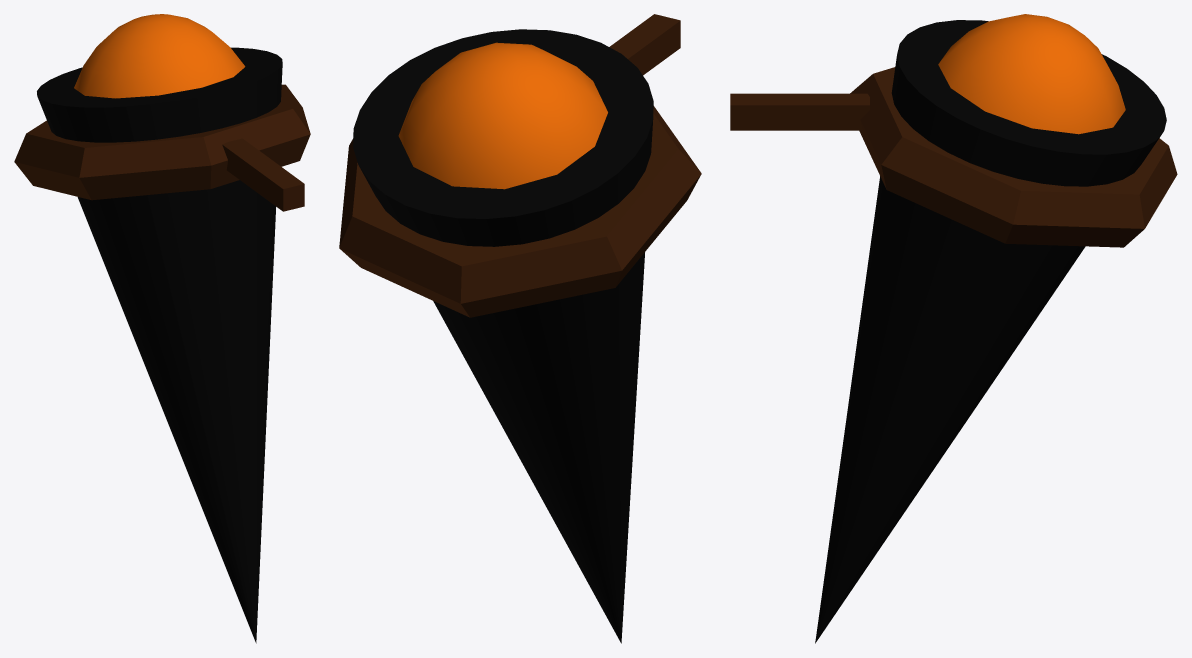
File: wallSconce.glb
The picture shows the model from 3 angles, left to right: view 1: azimuth 30°, elevation 25°; view 2: azimuth 150°, elevation 25°; view 3: azimuth 270°, elevation 25°; orthographic projection. The views are drawn at different scales.
Parts seen in each view (by area): view 1: Sphere; view 2: Sphere; view 3: Sphere.
Boxes of the visible parts, left/top/right/bottom form: Sphere: left=14, top=14, right=310, bottom=643; Sphere: left=339, top=14, right=701, bottom=643; Sphere: left=730, top=14, right=1177, bottom=643.
Bounding box in the file's own units: 0.1188 × 0.2455 × 0.1601.
